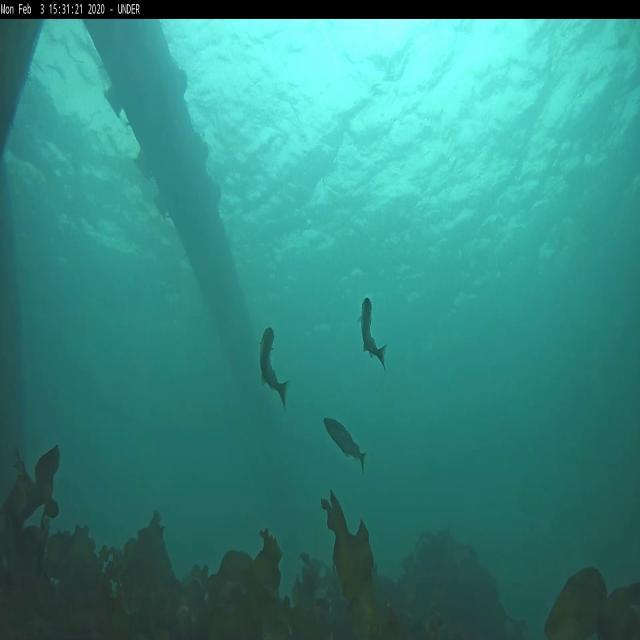fish: (260, 326, 290, 406), (324, 417, 366, 474), (362, 296, 386, 368)
